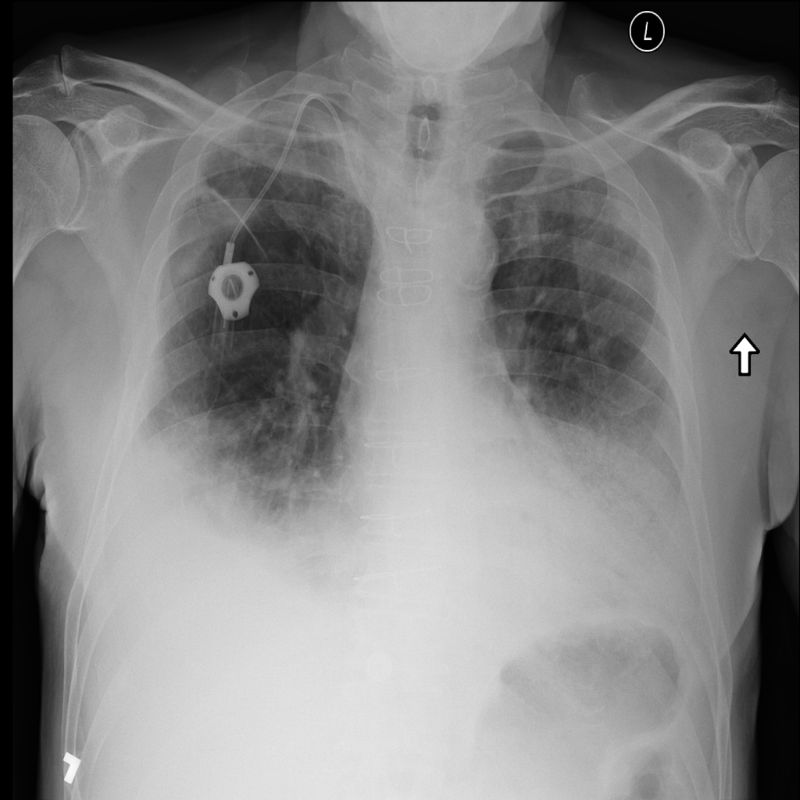PLEURAL EFFUSION: (82, 439, 236, 645), (619, 465, 712, 653)
